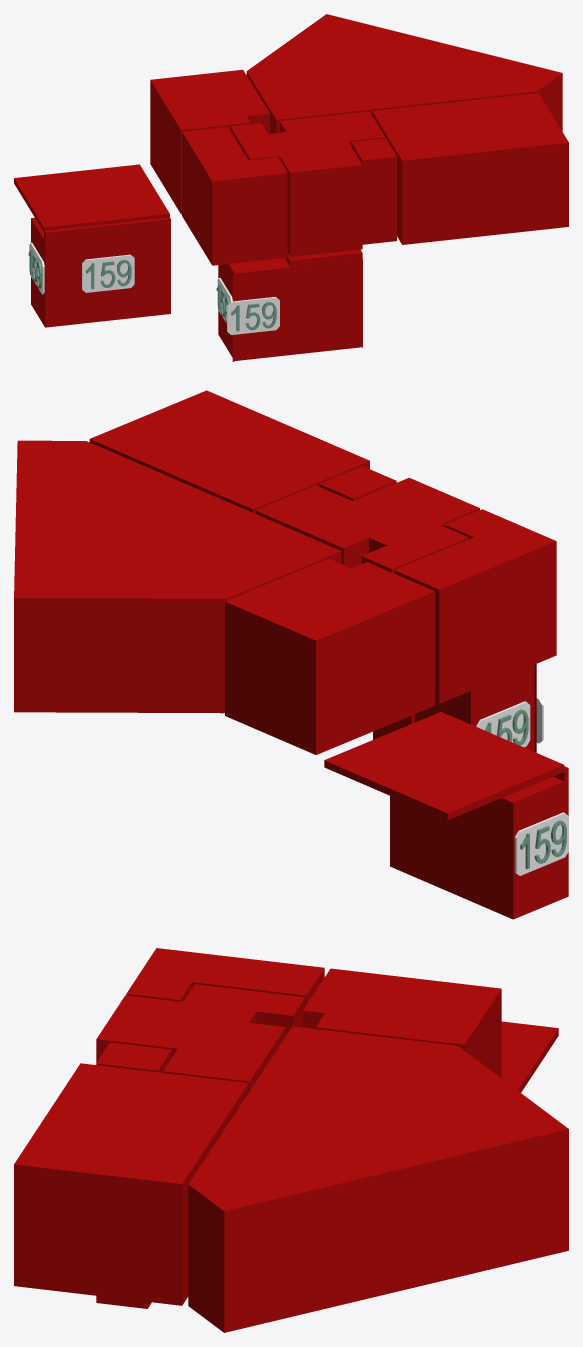
3 renders of one model, top to bottom at view 1: azimuth 30°, elevation 25°; view 2: azimuth 150°, elevation 25°; view 3: azimuth 270°, elevation 25°, orthographic. The views are drawn at different scales.
Parts seen in each view (by area): view 1: g_3, g_2, g_6, g_1, g_9, g_7, g_8, g_10, g_4, g_5, g_0, g_18 (+1 smaller); view 2: g_2, g_7, g_6, g_3, g_1, g_10, g_4, g_0, g_8, g_22, g_5, g_26; view 3: g_2, g_3, g_7, g_4, g_6, g_8, g_10, g_5.
Part boxes in pixels (x1,y1,x2,y2): g_3: (372,93,568,244); g_2: (246,14,562,133); g_6: (182,127,287,265); g_1: (31,217,170,327); g_9: (268,249,362,356); g_7: (150,69,269,214); g_8: (280,148,362,257); g_10: (14,164,169,231); g_4: (230,111,384,160); g_5: (351,138,396,244); g_0: (218,259,273,361); g_18: (227,296,279,334); g_2: (14,440,341,713); g_7: (225,558,435,754); g_6: (394,509,556,703); g_3: (89,390,369,513); g_1: (390,766,568,919); g_10: (324,712,564,820); g_4: (255,485,468,573); g_0: (414,664,536,752); g_8: (369,477,479,526); g_22: (514,812,568,875); g_5: (319,466,396,500); g_26: (476,701,530,747); g_2: (188,1026,568,1332); g_3: (14,1063,248,1305); g_7: (303,968,501,1078); g_4: (154,984,305,1092); g_6: (126,948,324,1006); g_8: (96,995,179,1062); g_10: (501,1021,558,1092); g_5: (96,1042,171,1072).
Bounding box in the file's own units: 13.82 × 5.2 × 9.92.
